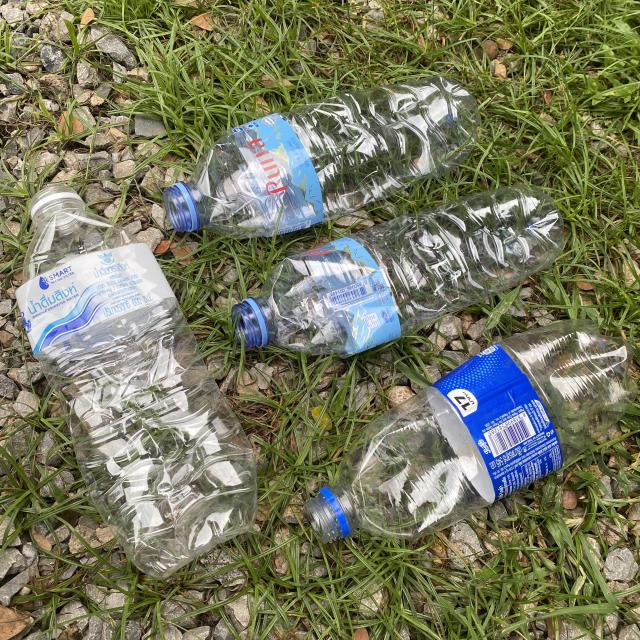plastik: (16, 185, 256, 579), (305, 320, 636, 542), (231, 185, 564, 358), (162, 76, 480, 238)
